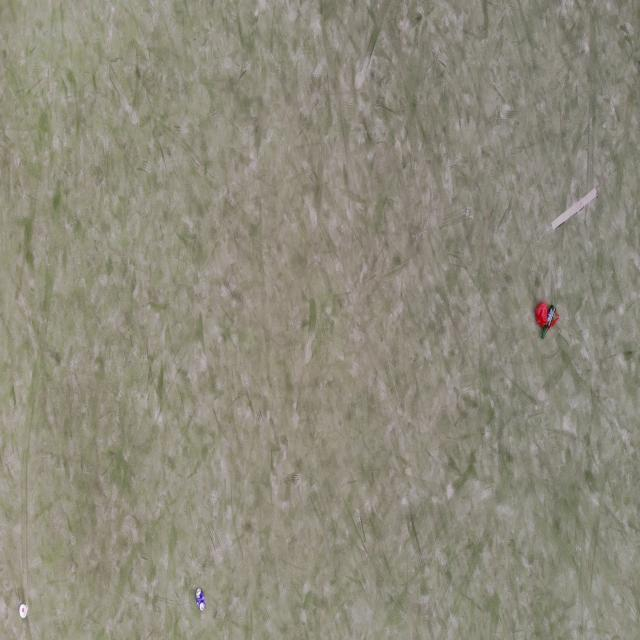rubbish: (535, 301, 560, 341), (196, 587, 205, 611), (19, 604, 28, 620)
